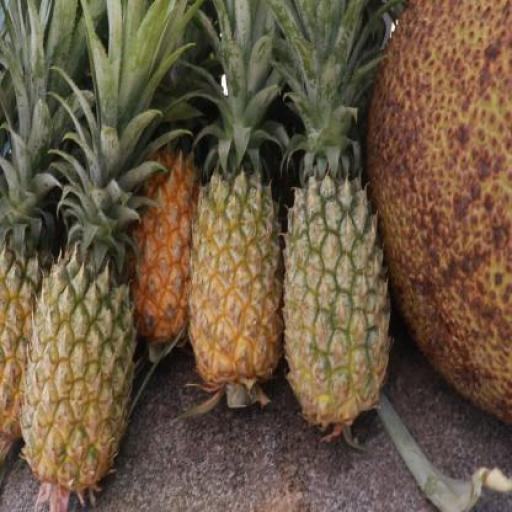------------------------------: (21, 254, 128, 476)
Pineapple - v8 v1: (187, 167, 282, 386), (130, 140, 207, 346)
